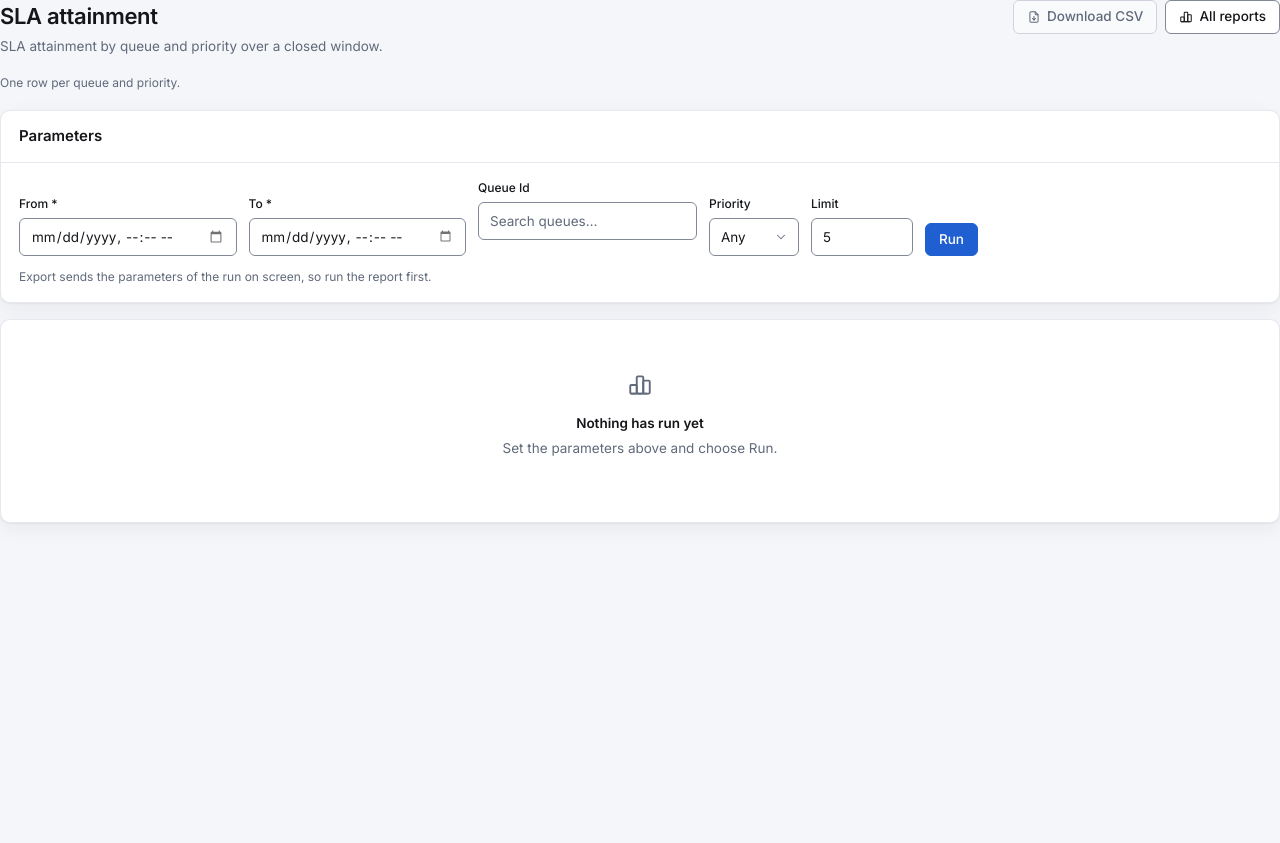
Test: a run that matched nothing › still renders the tiles, and the numbers, when something DID match
The image size is (1280, 843).
Type "2026-07-01T09:00" into the field labelled "From".
click(128, 237); type("2026-07-01T09:00")  # box [19,218,236,256]
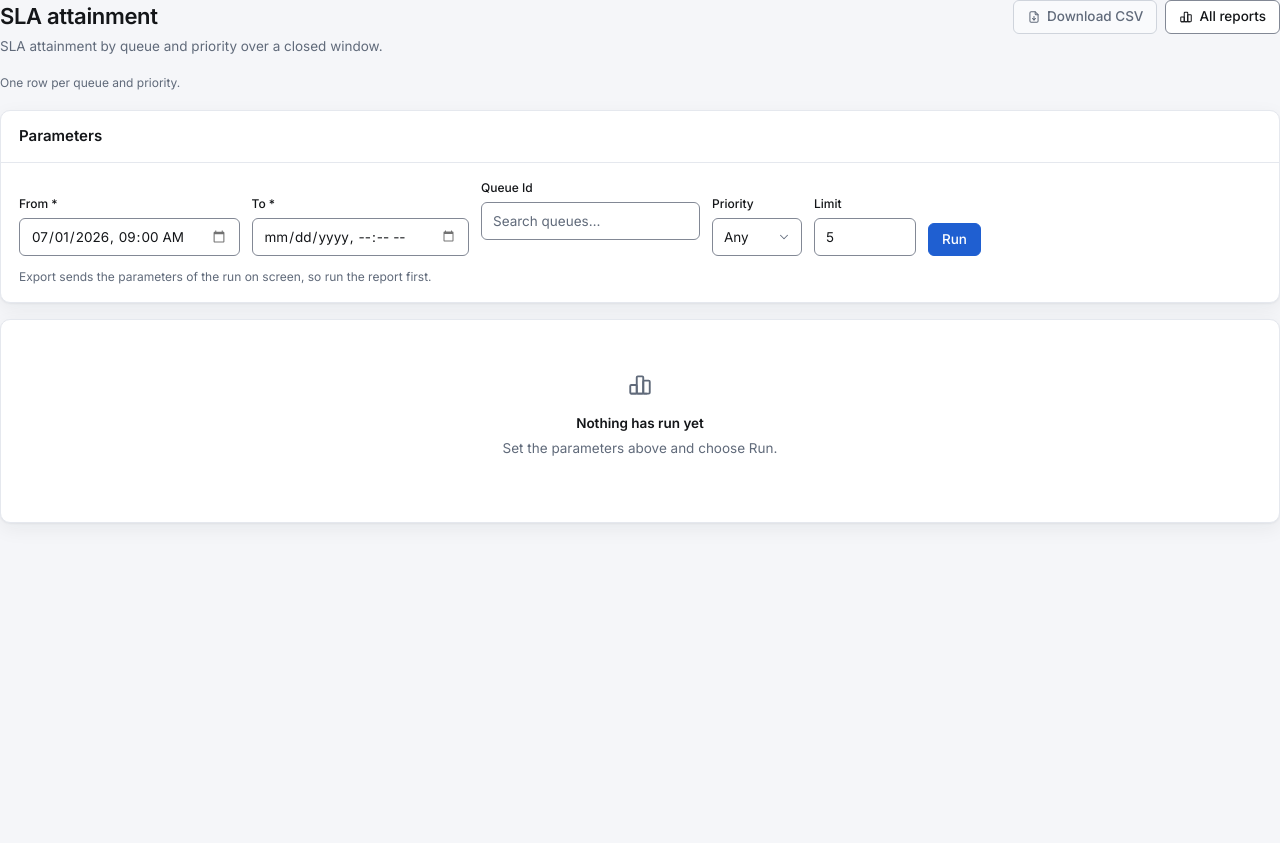
Type "2026-08-19T09:00" into the field labelled "To".
click(360, 237); type("2026-08-19T09:00")  # box [252,218,469,256]
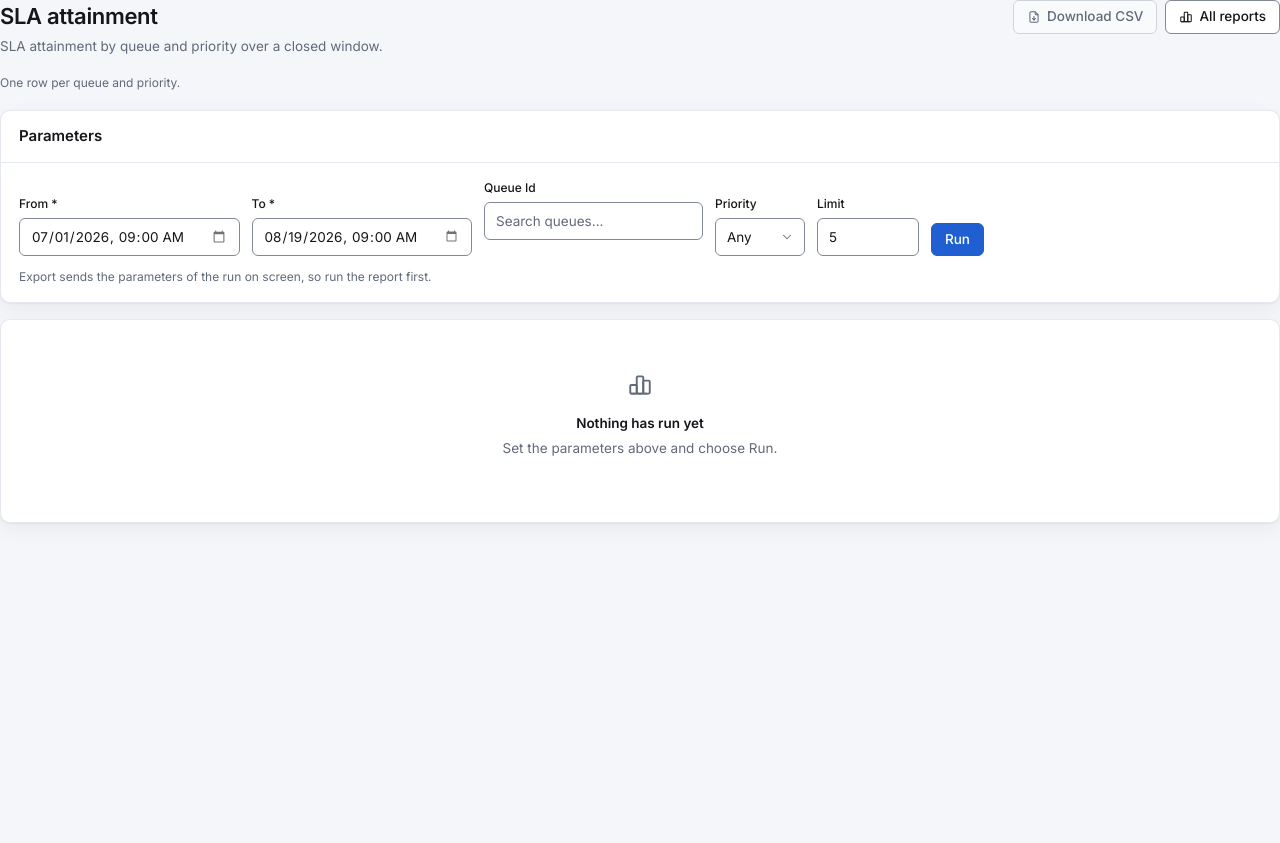
Click the button "Run".
click(958, 239)  # box [931,222,984,256]
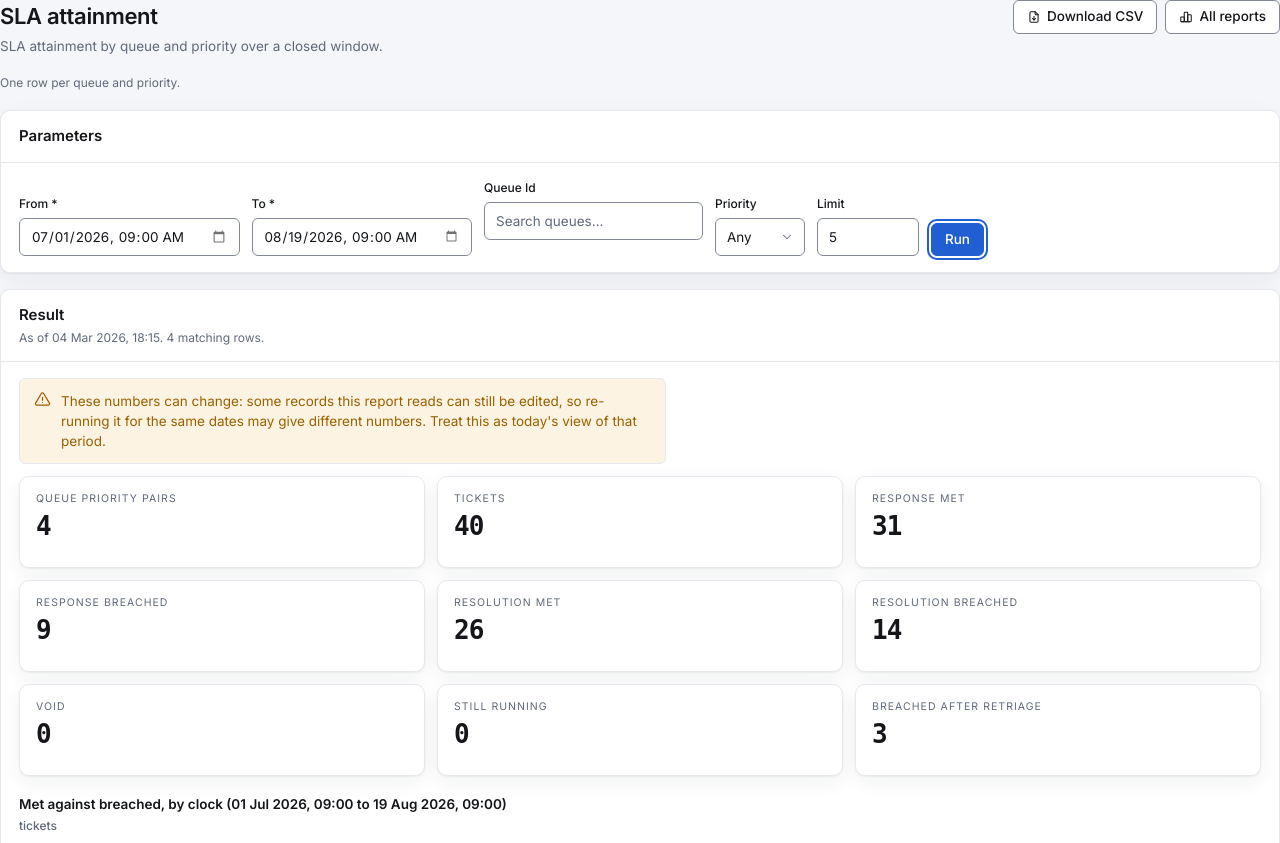
Now the text "As of 04 Mar 2026, 18:15. 4 matching rows." is shown, box [19,328,264,346]
Now the text "Response breached" is shown, box [36,596,168,609]
Now the text "9" is shown, box [36,615,51,645]
